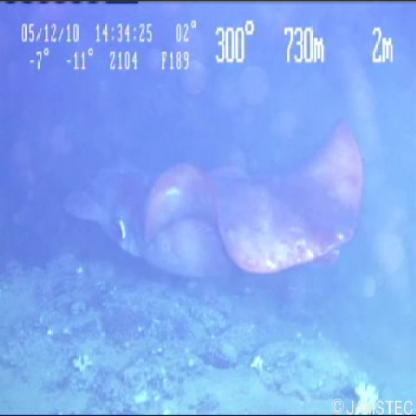Bio: (55, 110, 372, 291)
